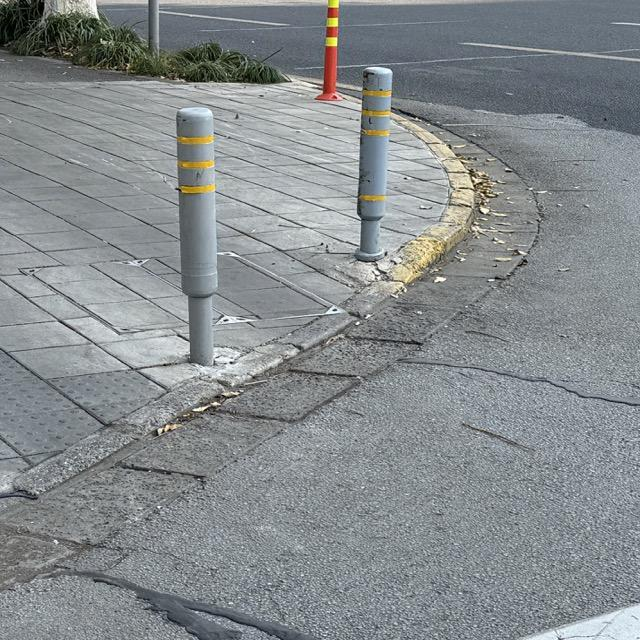curb: (0, 119, 474, 494)
